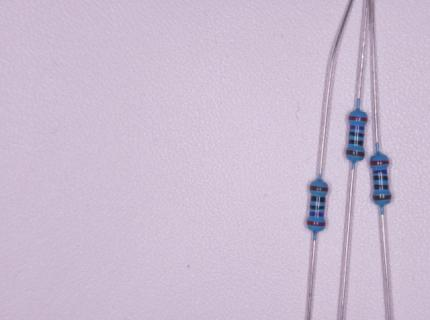Black band: (311, 196, 326, 203), (349, 140, 364, 146), (310, 205, 325, 210), (350, 132, 365, 137), (373, 176, 388, 181), (374, 185, 389, 190)
Brown band: (346, 150, 365, 157), (310, 186, 328, 192), (374, 195, 391, 200)
Red band: (307, 219, 326, 227), (349, 115, 368, 122), (371, 161, 389, 166)
Violet band: (349, 125, 365, 131), (309, 211, 324, 217), (373, 170, 388, 174)
